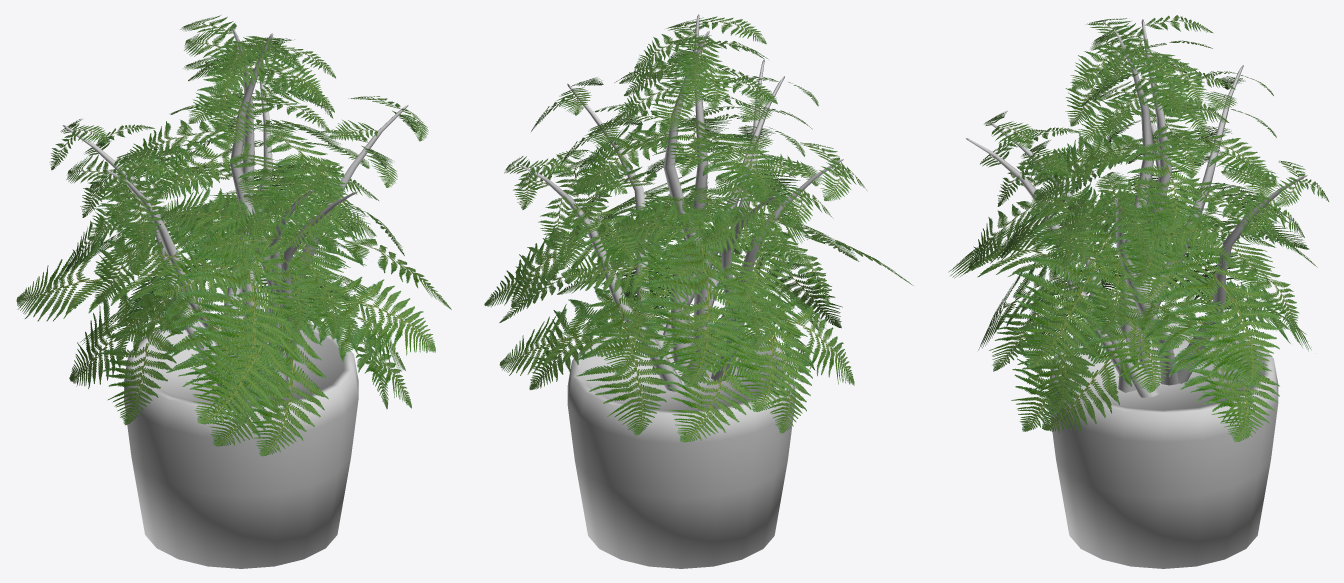
File: Plant.fbx
The picture shows the model from 3 angles, left to right: view 1: azimuth 30°, elevation 25°; view 2: azimuth 150°, elevation 25°; view 3: azimuth 270°, elevation 25°; orthographic projection. The views are drawn at different scales.
Visible parts, largest first — view 1: Leaves, Plant; view 2: Leaves, Plant; view 3: Leaves, Plant.
Part boxes in pixels (x1,y1,x2,y2): Leaves: [16, 15, 451, 456]; Plant: [62, 29, 408, 568]; Leaves: [484, 16, 913, 442]; Plant: [520, 14, 843, 568]; Leaves: [948, 15, 1328, 442]; Plant: [966, 19, 1307, 568].
Bounding box in the file's own units: 107 × 154 × 107.
